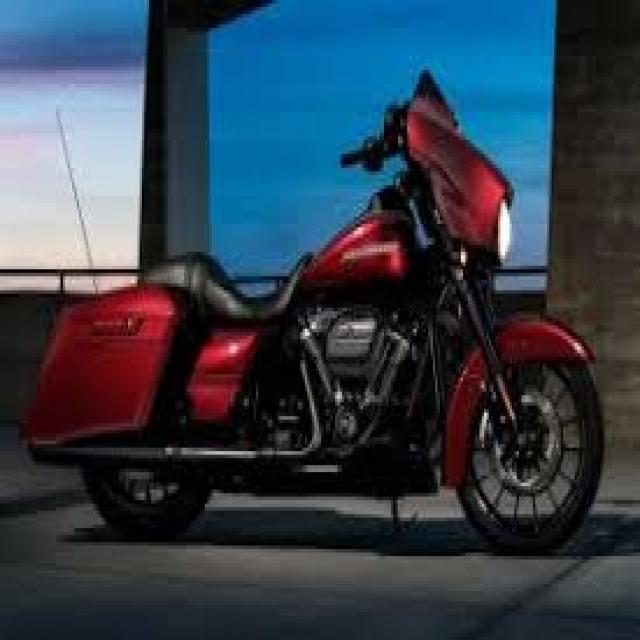Bike: (47, 83, 602, 571)
